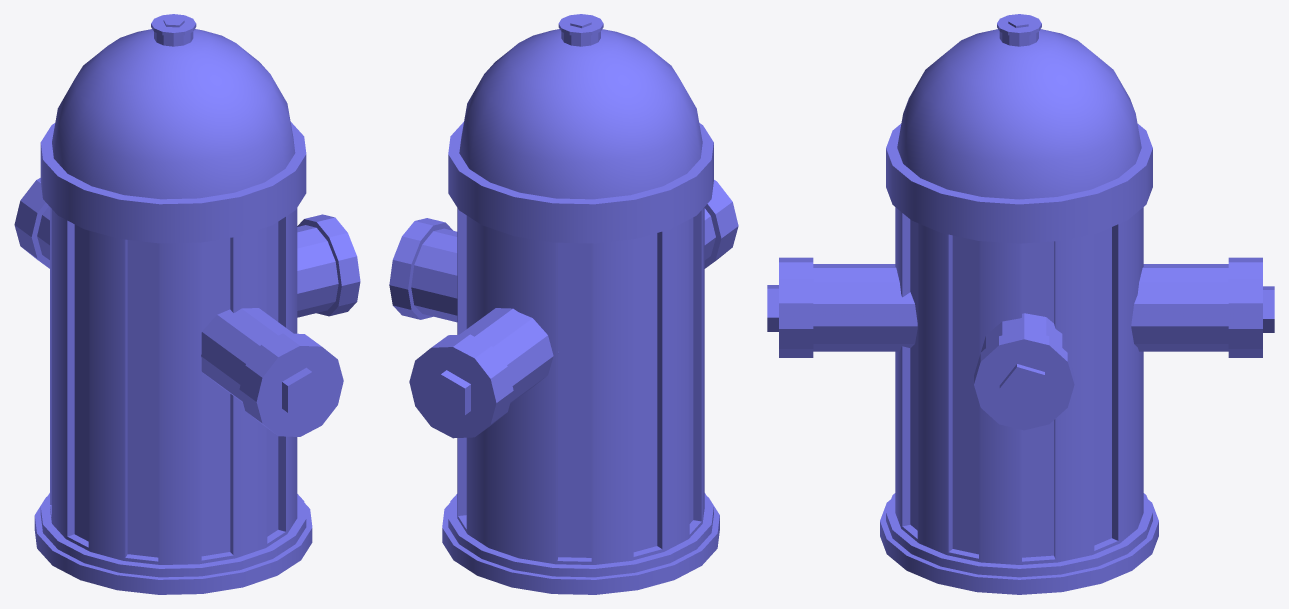
File: Hidrante.fbx
The picture shows the model from 3 angles, left to right: view 1: azimuth 30°, elevation 25°; view 2: azimuth 150°, elevation 25°; view 3: azimuth 270°, elevation 25°; orthographic projection.
Visible parts, largest first — view 1: HydrantWaterExit_05; view 2: HydrantWaterExit_05; view 3: HydrantWaterExit_05.
Boxes of the visible parts, bbox=[...] form: HydrantWaterExit_05: bbox=[14, 14, 360, 594]; HydrantWaterExit_05: bbox=[389, 14, 738, 594]; HydrantWaterExit_05: bbox=[767, 14, 1274, 594].
Size of the model in its own units: 0.4157 by 0.7017 by 0.6273.
